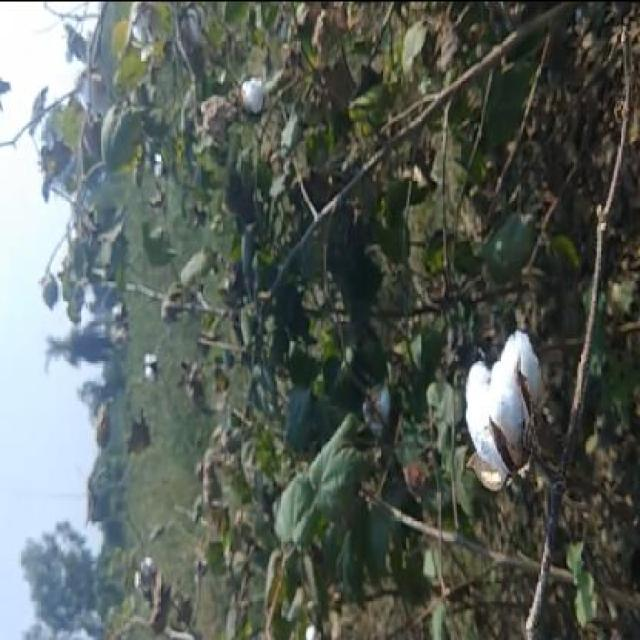cotton_ready: (450, 291, 579, 537)
